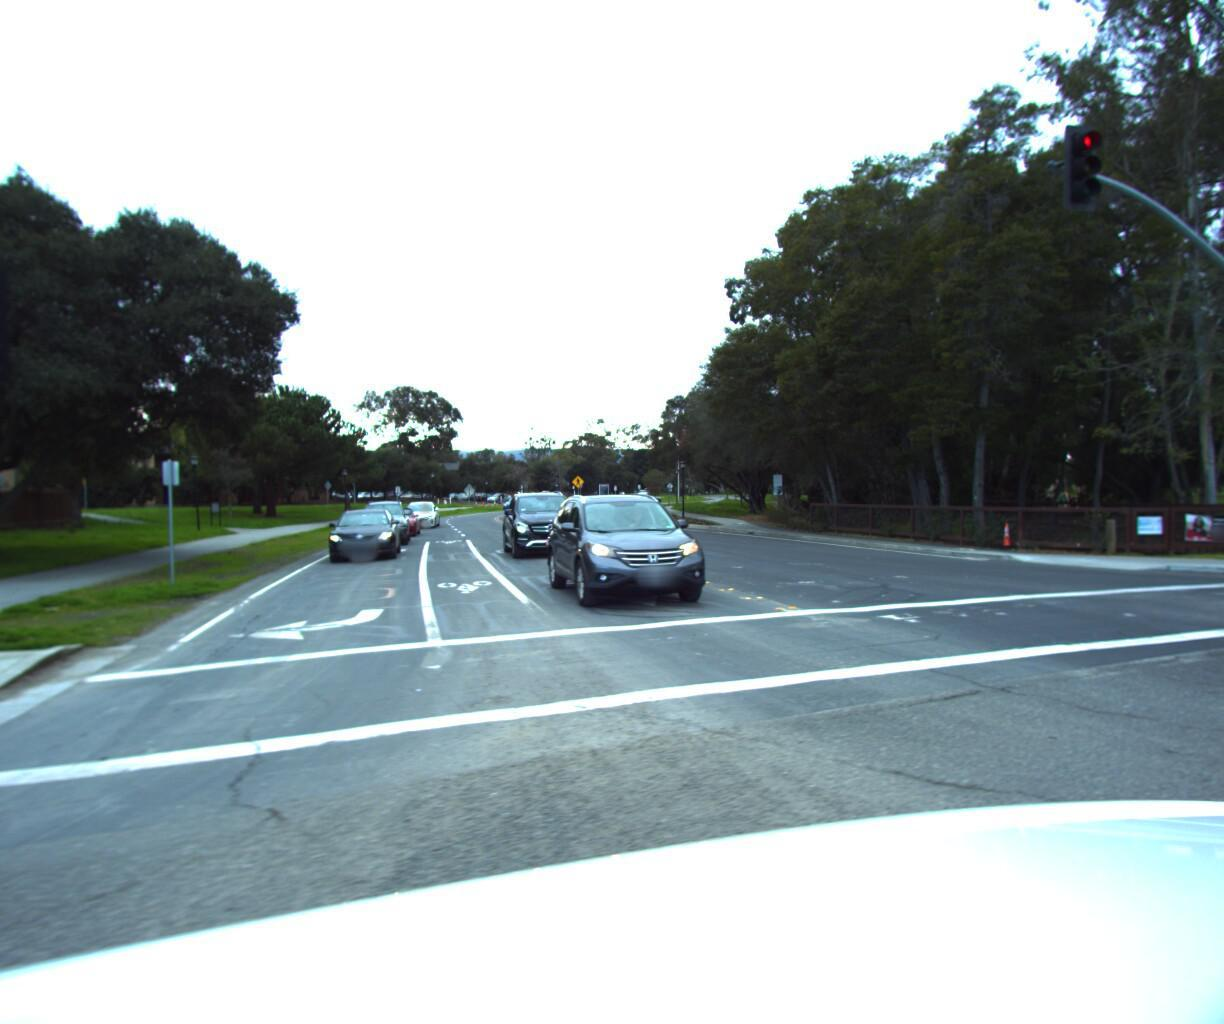car: (537, 489, 726, 612), (503, 488, 583, 556), (320, 505, 405, 562), (352, 494, 415, 545), (371, 503, 426, 540), (394, 498, 447, 526)
